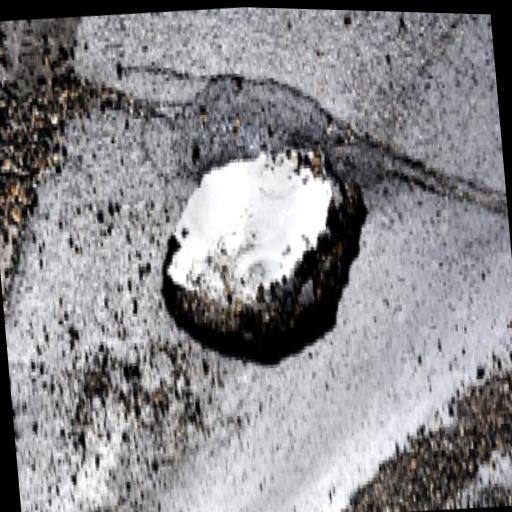pothole: (144, 135, 386, 387)
